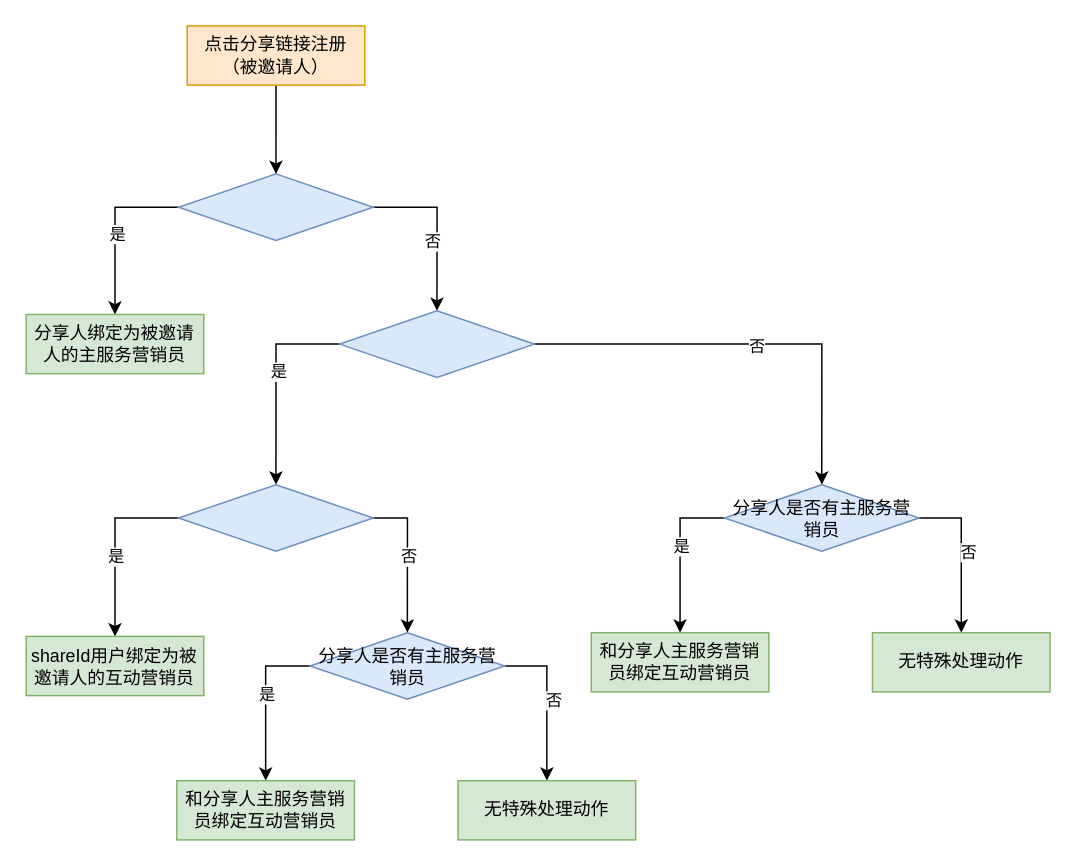
This 1076x866 diagram has some shape labels left out. The centre of each missing label's shape, as x and y in pixels:
"shareId对应角色是否为营销员" goes at point 275,517.
"分享人是否为营销员" goes at point 275,206.
"是否有场景shareId" goes at point 436,343.
